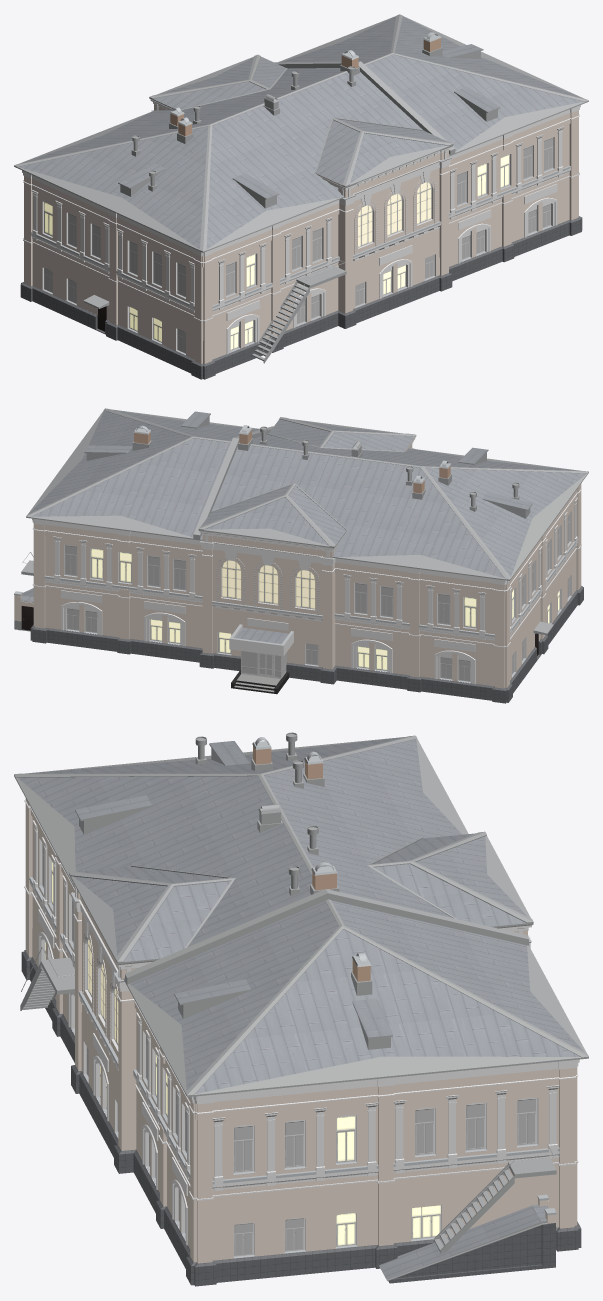
The picture shows the model from 3 angles, top to bottom: view 1: azimuth 30°, elevation 25°; view 2: azimuth 150°, elevation 25°; view 3: azimuth 270°, elevation 25°; orthographic projection. The views are drawn at different scales.
Parts seen in each view (by area): view 1: 01020-50@61978; view 2: 01020-50@61978; view 3: 01020-50@61978.
Boxes of the visible parts, <box> form: 01020-50@61978: <box>14,14,588,379</box>; 01020-50@61978: <box>14,408,588,703</box>; 01020-50@61978: <box>14,732,588,1286</box>.
Bounding box in the file's own units: 42.07 × 15.64 × 28.41.
1 material, 1 textured.
